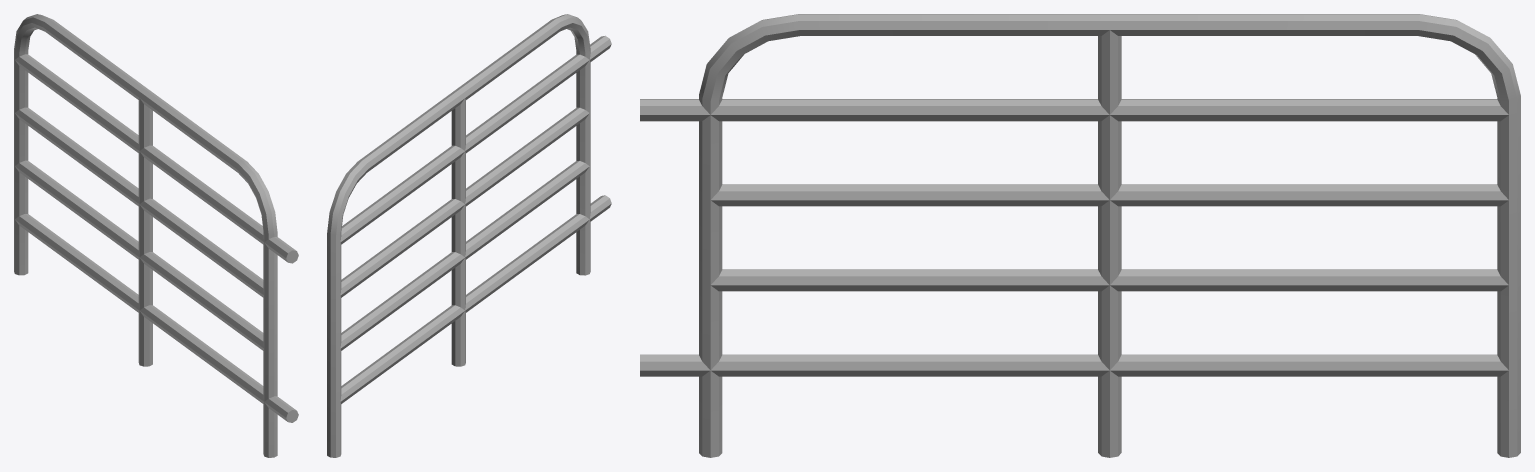
The model's file is SM_fence_102gate.gltf.
3 renders of one model, left to right at view 1: azimuth 30°, elevation 25°; view 2: azimuth 150°, elevation 25°; view 3: azimuth 270°, elevation 25°, orthographic. The views are drawn at different scales.
Visible parts, largest first — view 1: SM_fence_102gate; view 2: SM_fence_102gate; view 3: SM_fence_102gate.
Boxes of the visible parts, bbox=[...] form: SM_fence_102gate: bbox=[14, 14, 298, 457]; SM_fence_102gate: bbox=[327, 14, 611, 457]; SM_fence_102gate: bbox=[640, 14, 1520, 457].
Size of the model in its own units: 0.05 by 1.03 by 1.88.
Materials: 1 (1 with a texture image).
